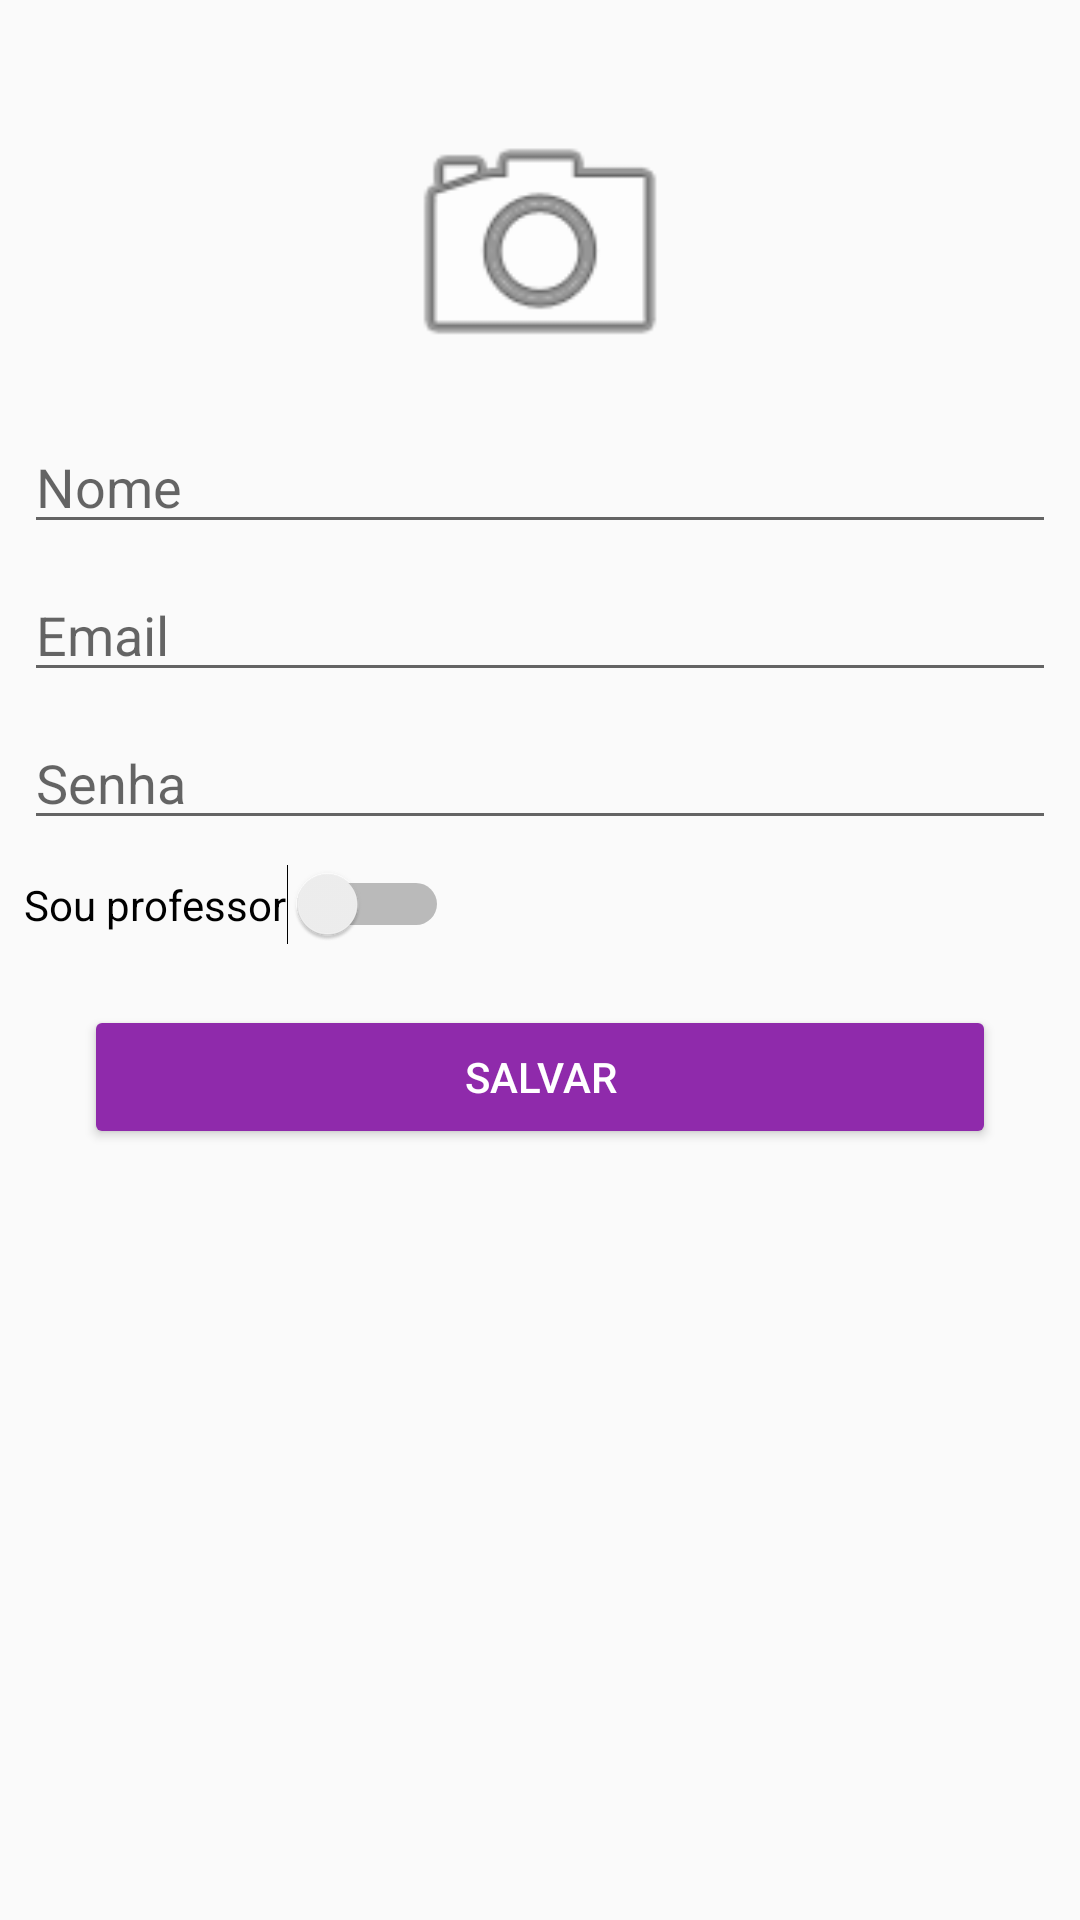

Icons on this 1080x1920 Android screen, each with its box as [x1,y1,x2,y2]:
camera: [424,149,656,334]
